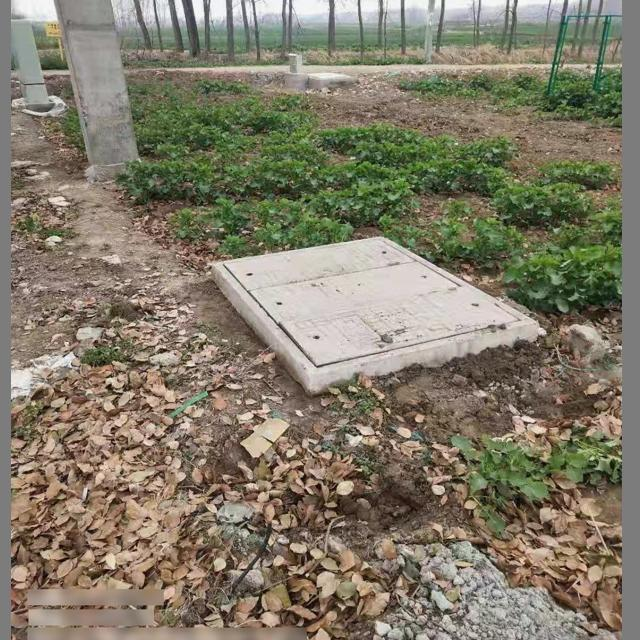good: (215, 227, 545, 374)
